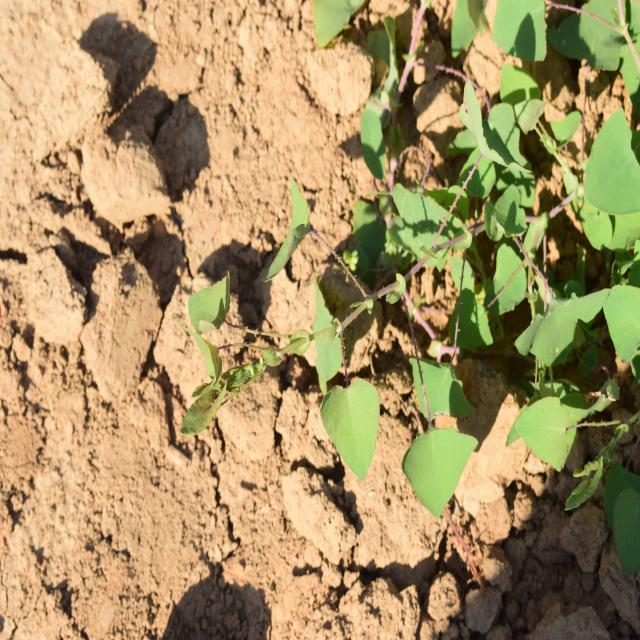Asiatic_Smartweed: (186, 216, 478, 514), (526, 277, 618, 385)
